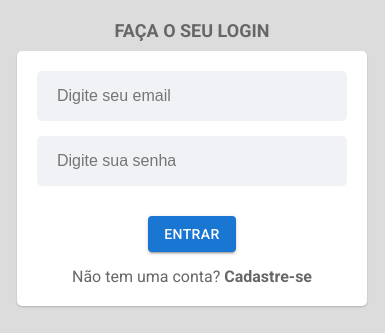
it: Signin component › should display error message if email or password are not provided
Click the button "Entrar".
click(192, 234)  # box [148,216,236,252]
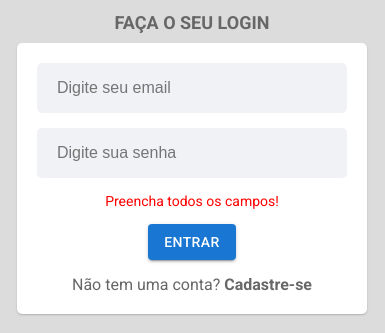
Now the text "Preencha todos os campos!" is shown, box [105,193,279,209]
